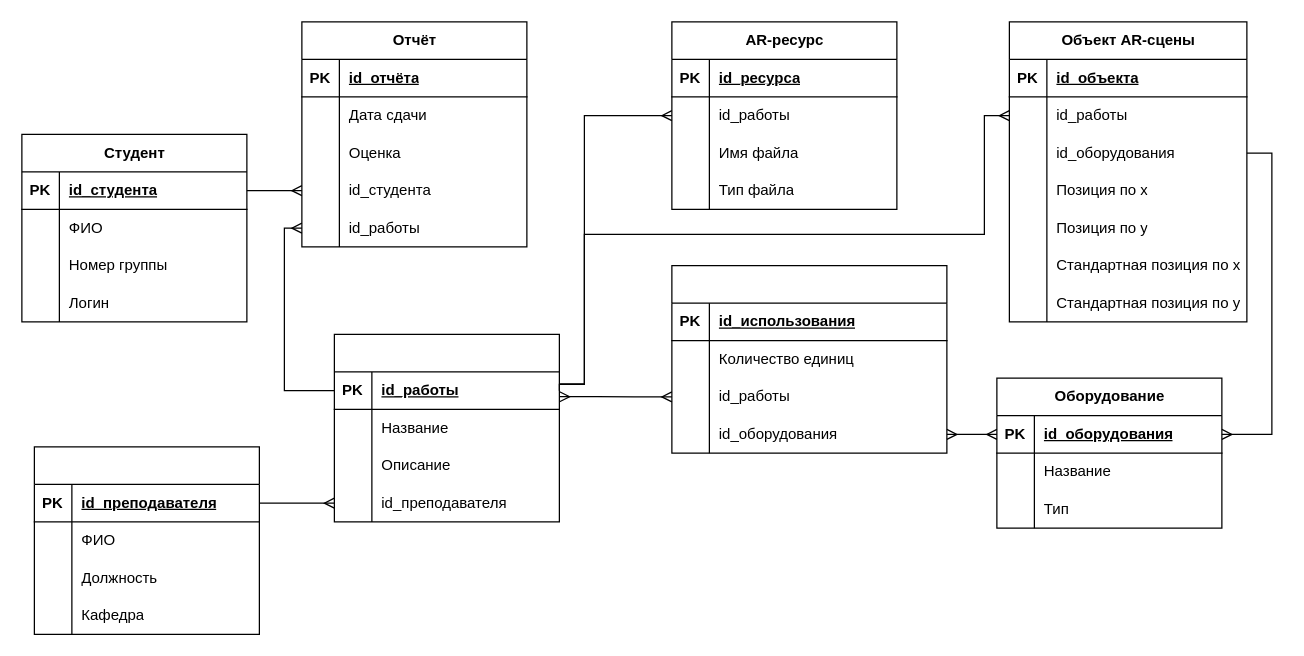
The diagram is 1304 pixels wide and 656 high, and some of its shapes have lost their labels. Here are the shapes that lost their labels. From the top down, the box of each, then its label:
(671, 264, 947, 453): Используемое оборудования
(333, 333, 559, 522): Лабораторная работа
(33, 446, 259, 634): Преподаватель
